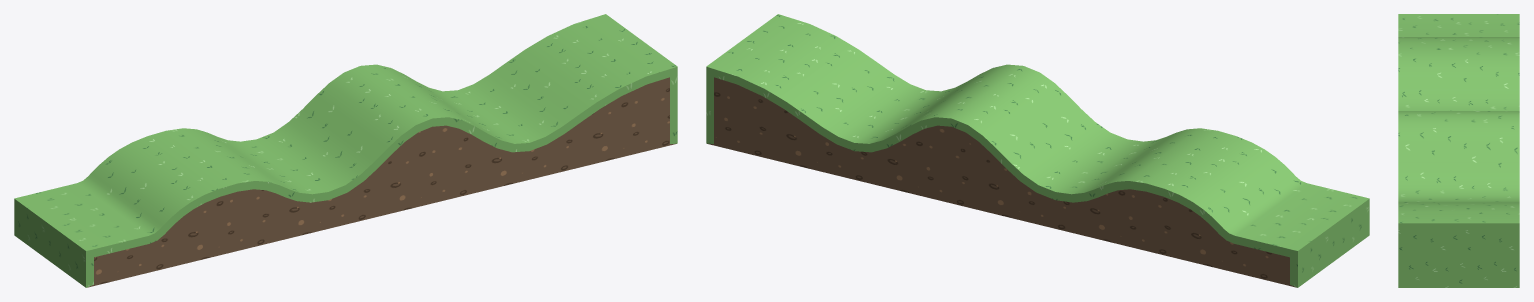
The model's file is GardenPlatform4.fbx.
The picture shows the model from 3 angles, left to right: view 1: azimuth 30°, elevation 25°; view 2: azimuth 150°, elevation 25°; view 3: azimuth 270°, elevation 25°; orthographic projection. The views are drawn at different scales.
Visible parts, largest first — view 1: GardenPlatform4; view 2: GardenPlatform4; view 3: GardenPlatform4.
Part boxes in pixels (box(x1,y1,x2,y2)): GardenPlatform4: box(14, 14, 677, 287); GardenPlatform4: box(706, 14, 1369, 287); GardenPlatform4: box(1398, 14, 1519, 287).
Bounding box in the file's own units: 3220 × 442 × 678.
